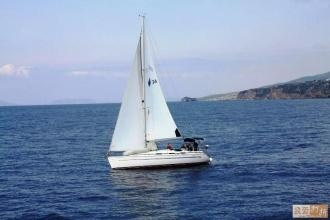fanchuan: (106, 14, 214, 168)
